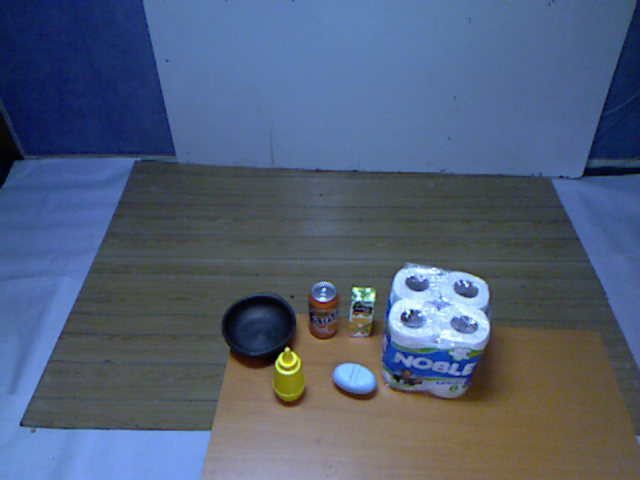confort: (379, 260, 495, 406)
greda: (221, 286, 302, 366)
jabon: (329, 357, 381, 402)
jugoind: (345, 279, 379, 343)
lata: (305, 276, 344, 342)
mostaza: (266, 344, 311, 408)
